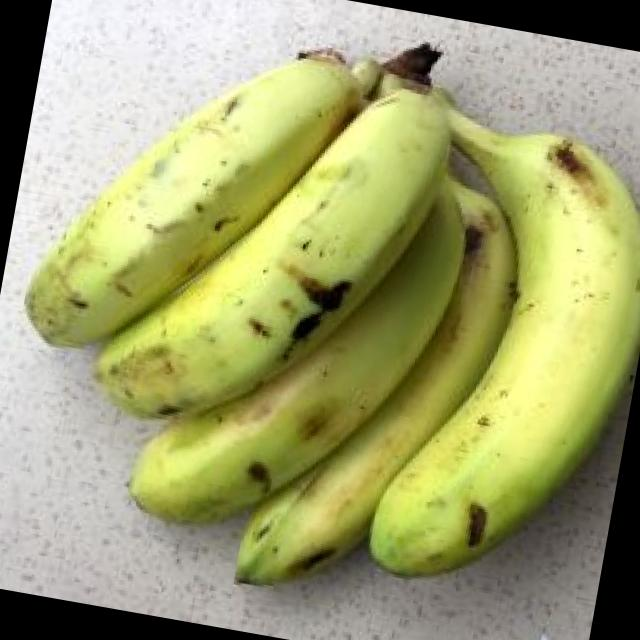banana: (136, 178, 523, 580)
